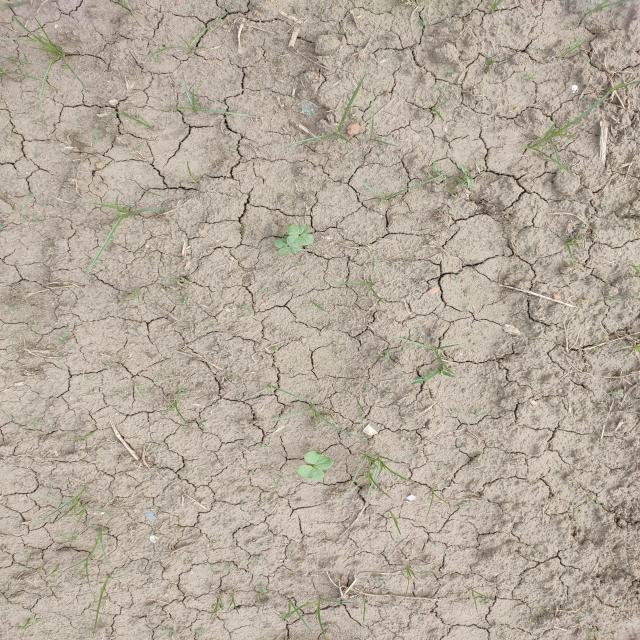seedling: (304, 451, 334, 469), (297, 465, 324, 481), (286, 233, 314, 247), (287, 225, 310, 235), (278, 246, 301, 254), (275, 238, 289, 248)
